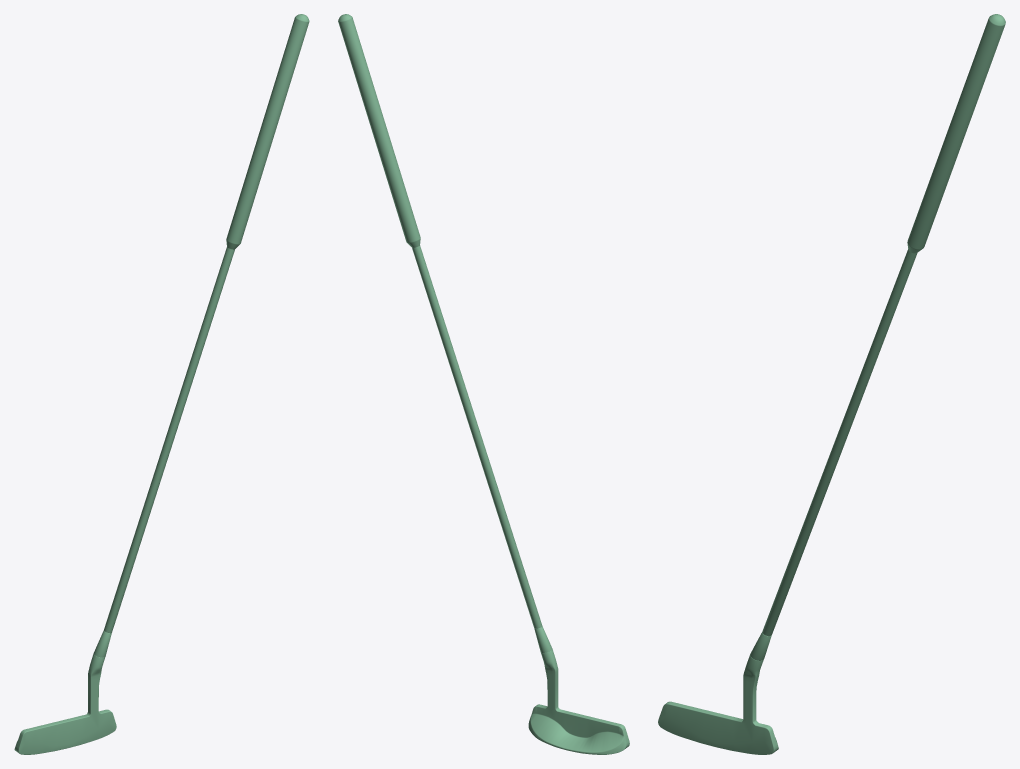
File: minigolf-putter.glb
The picture shows the model from 3 angles, left to right: view 1: azimuth 30°, elevation 25°; view 2: azimuth 150°, elevation 25°; view 3: azimuth 330°, elevation 25°; orthographic projection. The views are drawn at different scales.
Visible parts, largest first — view 1: Object01_static; view 2: Object01_static; view 3: Object01_static.
Part boxes in pixels (left/top/right/bottom): Object01_static: left=14, top=14, right=309, bottom=754; Object01_static: left=338, top=14, right=629, bottom=754; Object01_static: left=658, top=14, right=1005, bottom=754.
Size of the model in its own units: 1.08 by 2.4 by 0.1018.
